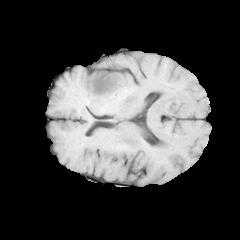glioma: (89, 71, 121, 97)
